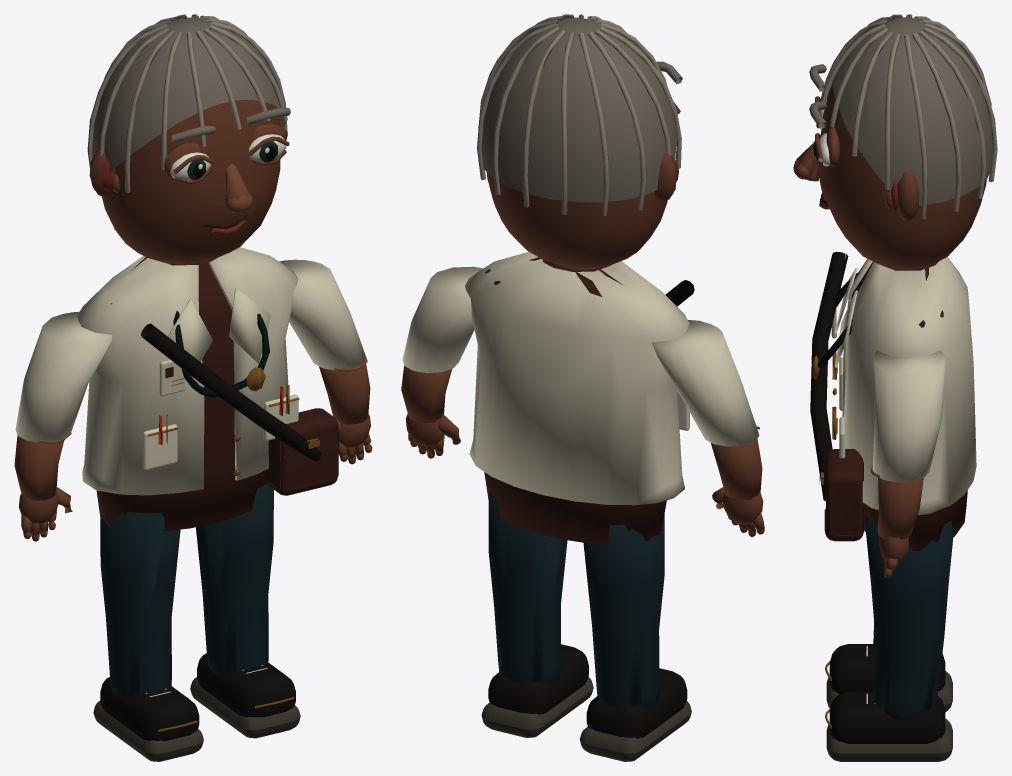
File: doctor-04.glb
3 renders of one model, left to right at view 1: azimuth 30°, elevation 25°; view 2: azimuth 150°, elevation 25°; view 3: azimuth 270°, elevation 25°, orthographic.
Visible parts, largest first — view 1: Body, Head, LegL, LegR, ArmL, ArmR; view 2: Body, Head, LegL, LegR, ArmL, ArmR; view 3: Head, Body, LegR, ArmR, LegL.
Boxes of the visible parts, x1=… form: Body: x1=77, y1=247, x2=338, y2=530; Head: x1=87, y1=14, x2=290, y2=264; LegL: x1=93, y1=512, x2=203, y2=761; LegR: x1=190, y1=483, x2=300, y2=738; ArmL: x1=14, y1=312, x2=112, y2=541; ArmR: x1=279, y1=259, x2=372, y2=464; Body: x1=465, y1=251, x2=694, y2=544; Head: x1=477, y1=14, x2=682, y2=268; LegL: x1=579, y1=514, x2=691, y2=761; LegR: x1=481, y1=491, x2=593, y2=737; ArmL: x1=651, y1=320, x2=764, y2=536; ArmR: x1=401, y1=266, x2=483, y2=458; Head: x1=793, y1=14, x2=997, y2=269; Body: x1=810, y1=251, x2=976, y2=551; LegR: x1=825, y1=515, x2=953, y2=761; ArmR: x1=870, y1=350, x2=945, y2=578; LegL: x1=825, y1=622, x2=952, y2=712.
Size of the model in its own units: 0.7303 by 1.39 by 0.365.
